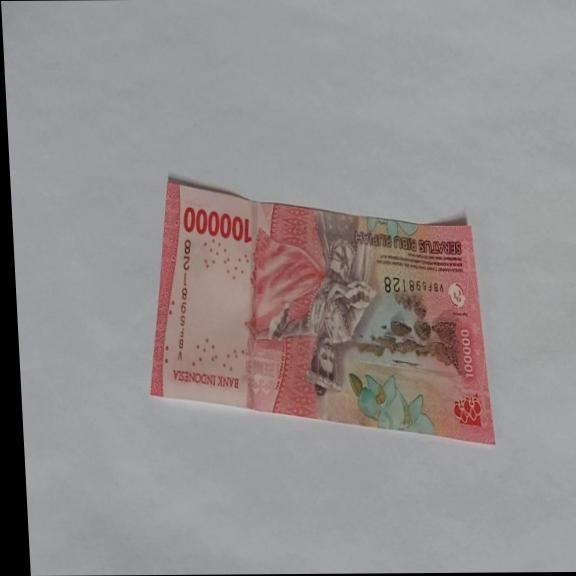Kertas: (137, 174, 495, 449), (181, 205, 252, 245)
